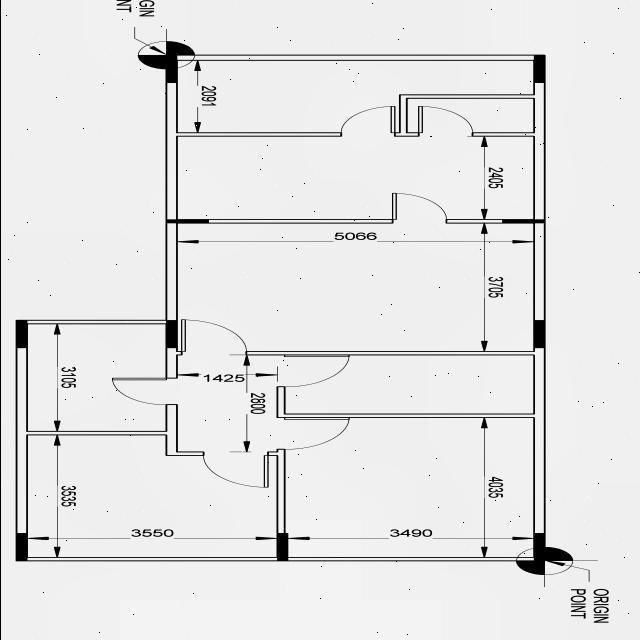Column: (12, 316, 31, 349), (528, 532, 548, 562), (529, 54, 548, 84), (530, 320, 548, 350), (13, 531, 30, 562), (162, 54, 178, 84), (162, 320, 178, 348), (274, 532, 288, 562), (162, 218, 211, 225), (499, 218, 548, 225)
Door: (280, 347, 354, 393), (281, 413, 354, 453), (180, 314, 246, 356), (384, 185, 450, 226), (197, 452, 270, 488), (413, 102, 479, 140), (105, 374, 175, 408), (337, 104, 395, 138)
